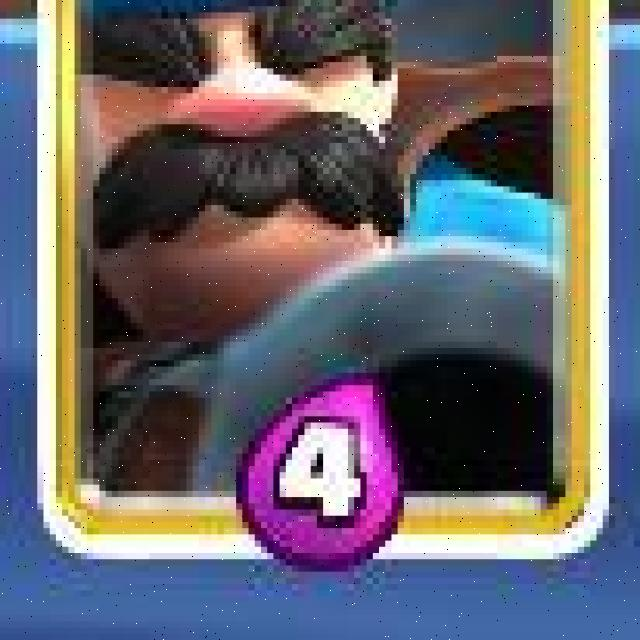Hunter: (33, 0, 610, 561)
